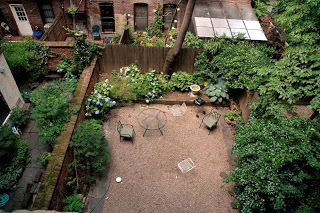container: (189, 82, 201, 95), (72, 30, 85, 40)
